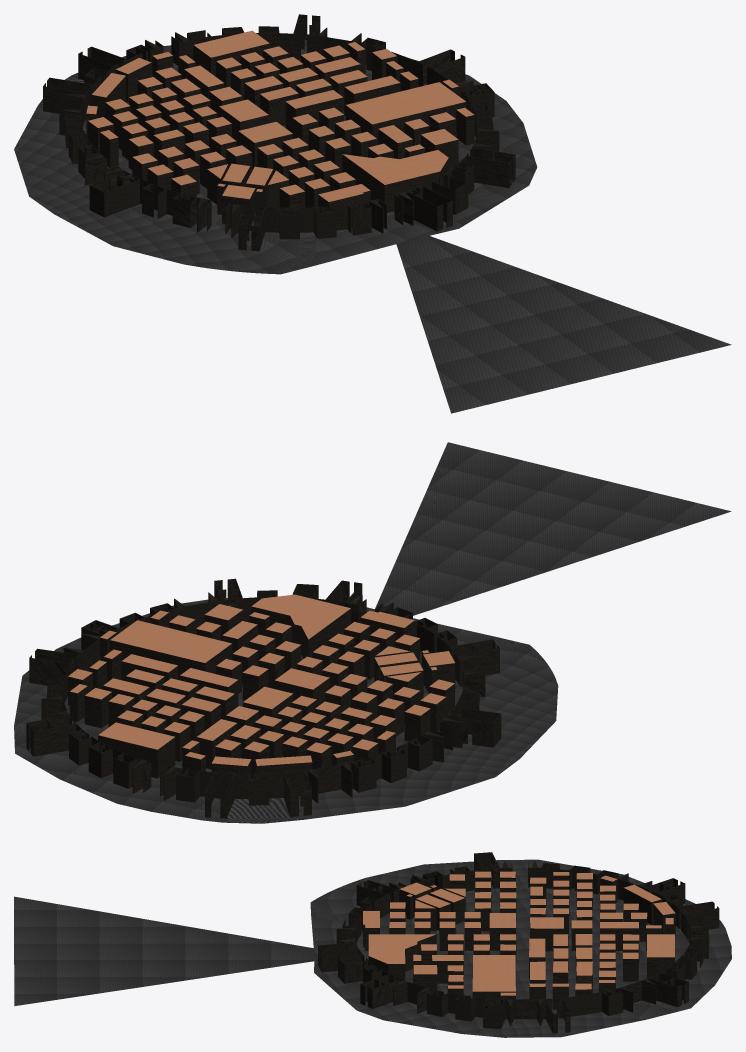
File: port1.dae
The picture shows the model from 3 angles, top to bottom: view 1: azimuth 30°, elevation 25°; view 2: azimuth 150°, elevation 25°; view 3: azimuth 270°, elevation 25°; orthographic projection. The views are drawn at different scales.
Parts seen in each view (by area): view 1: Curve_007; view 2: Curve_007; view 3: Curve_007.
Boxes of the visible parts, box(x1,y1,x2,y2) form: Curve_007: box(14, 14, 731, 413); Curve_007: box(14, 442, 731, 823); Curve_007: box(14, 852, 731, 1037).
Size of the model in its own units: 134 by 228 by 8.01.
3 materials, 3 textured.
